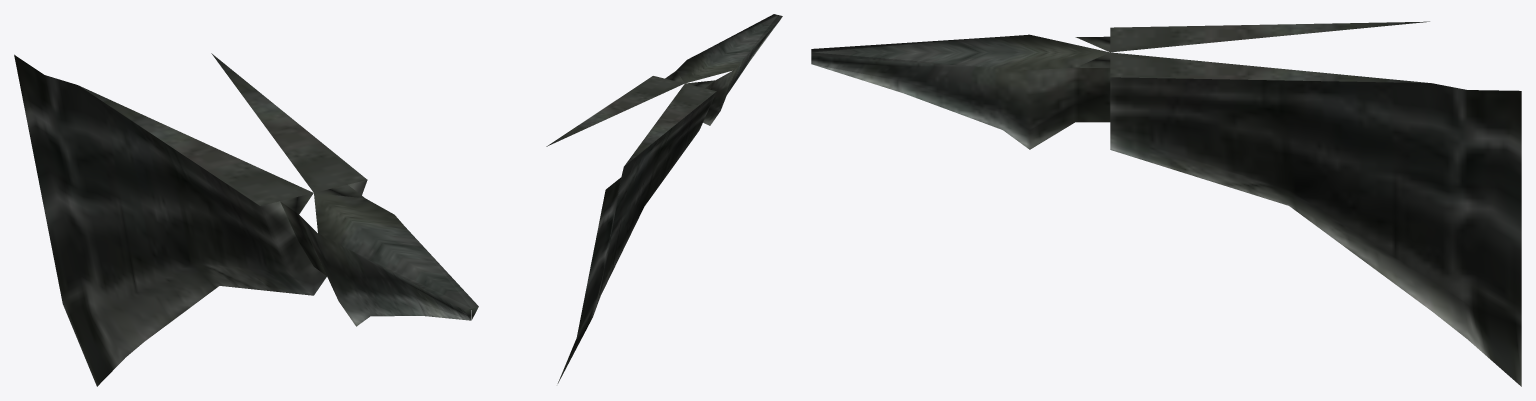
The picture shows the model from 3 angles, left to right: view 1: azimuth 30°, elevation 25°; view 2: azimuth 150°, elevation 25°; view 3: azimuth 270°, elevation 25°; orthographic projection. The views are drawn at different scales.
Visible parts, largest first — view 1: model_Object102; view 2: model_Object102; view 3: model_Object102.
Part boxes in pixels (left/top/right/bottom): model_Object102: left=14, top=53, right=478, bottom=386; model_Object102: left=546, top=14, right=782, bottom=383; model_Object102: left=811, top=21, right=1521, bottom=386.
Bounding box in the file's own units: 0.5407 × 1.1 × 2.11.
Materials: 1 (1 with a texture image).
